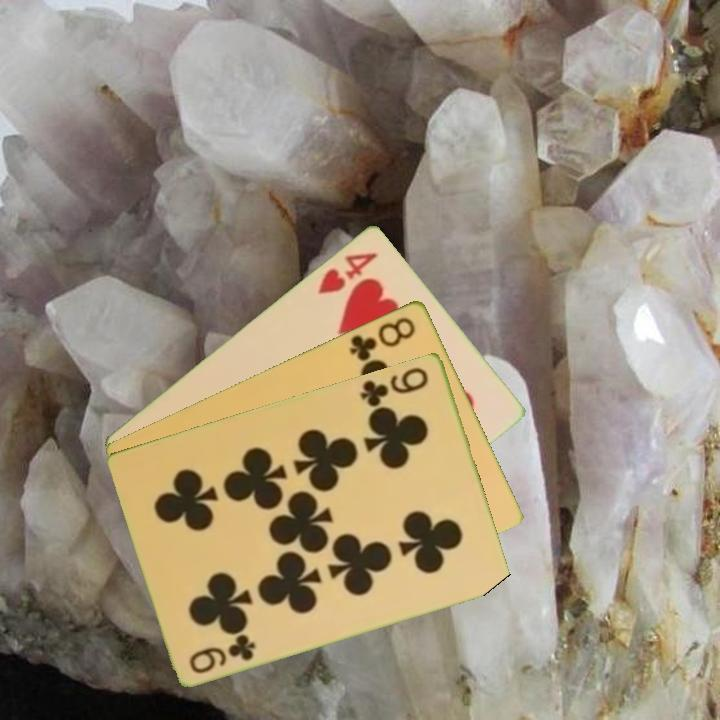4h: (313, 248, 381, 297)
8c: (345, 312, 419, 364)
9c: (357, 363, 432, 410), (186, 630, 259, 677)
